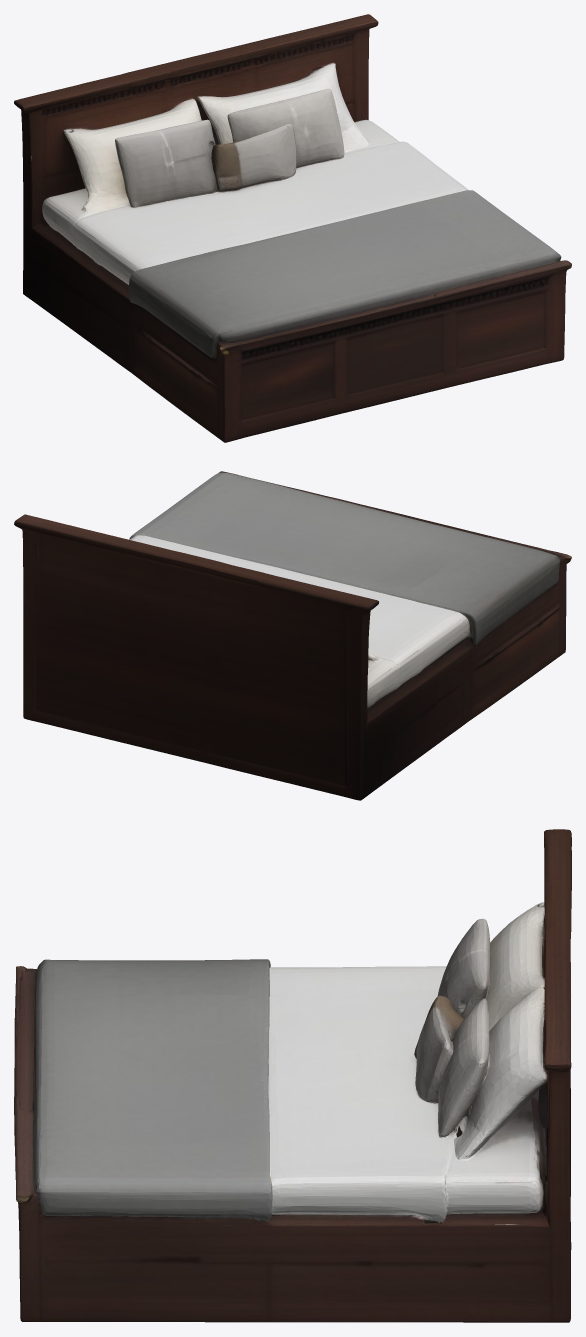
3 renders of one model, top to bottom at view 1: azimuth 30°, elevation 25°; view 2: azimuth 150°, elevation 25°; view 3: azimuth 270°, elevation 25°, orthographic. The views are drawn at different scales.
Visible parts, largest first — view 1: world; view 2: world; view 3: world.
Boxes of the visible parts, x1=… form: world: x1=14, y1=14, x2=571, y2=442; world: x1=14, y1=471, x2=571, y2=800; world: x1=14, y1=829, x2=571, y2=1322.
Bounding box in the file's own units: 1.89 × 1 × 1.9.
1 material, 1 textured.
